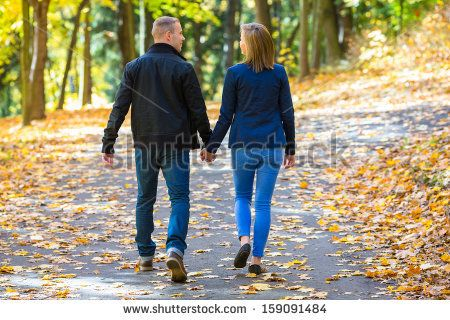person: (97, 12, 212, 283), (205, 21, 299, 274)
